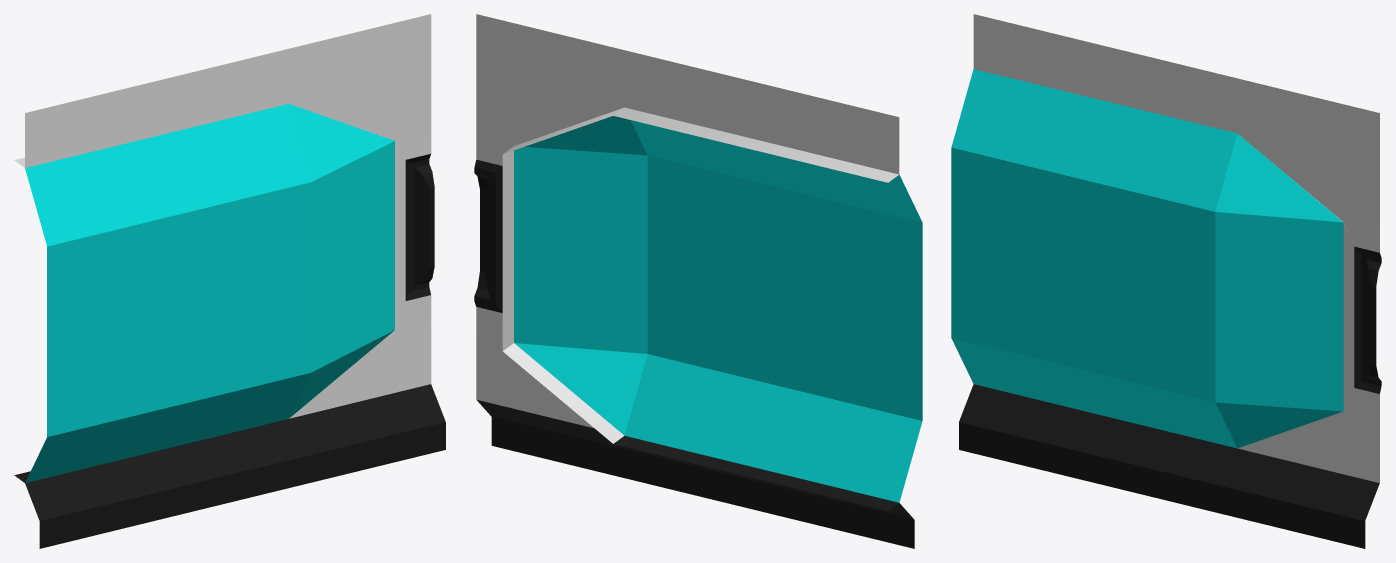
File: base_window_edge_right_02.FBX
3 views of the same model, side by side, from view 1: azimuth 30°, elevation 25°; view 2: azimuth 150°, elevation 25°; view 3: azimuth 330°, elevation 25° (orthographic). The views are drawn at different scales.
Parts seen in each view (by area): view 1: base_window_edge_right_02; view 2: base_window_edge_right_02; view 3: base_window_edge_right_02.
Boxes of the visible parts, <box> form: base_window_edge_right_02: <box>14,14,445,548</box>; base_window_edge_right_02: <box>474,14,922,548</box>; base_window_edge_right_02: <box>951,14,1381,548</box>.
Bounding box in the file's own units: 400 × 400 × 56.34.
